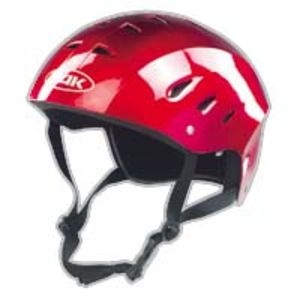helmet: (44, 15, 278, 181)
